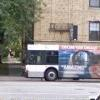Bus: (21, 38, 100, 80)
